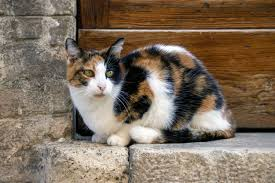三花猫: (107, 45, 232, 144)
